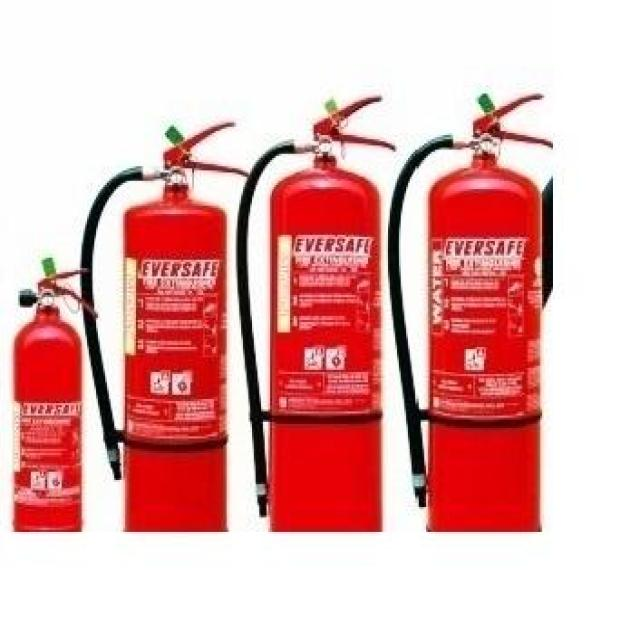fire_extinguisher: (230, 87, 399, 530), (383, 85, 551, 530), (75, 114, 251, 530), (5, 253, 100, 532)
